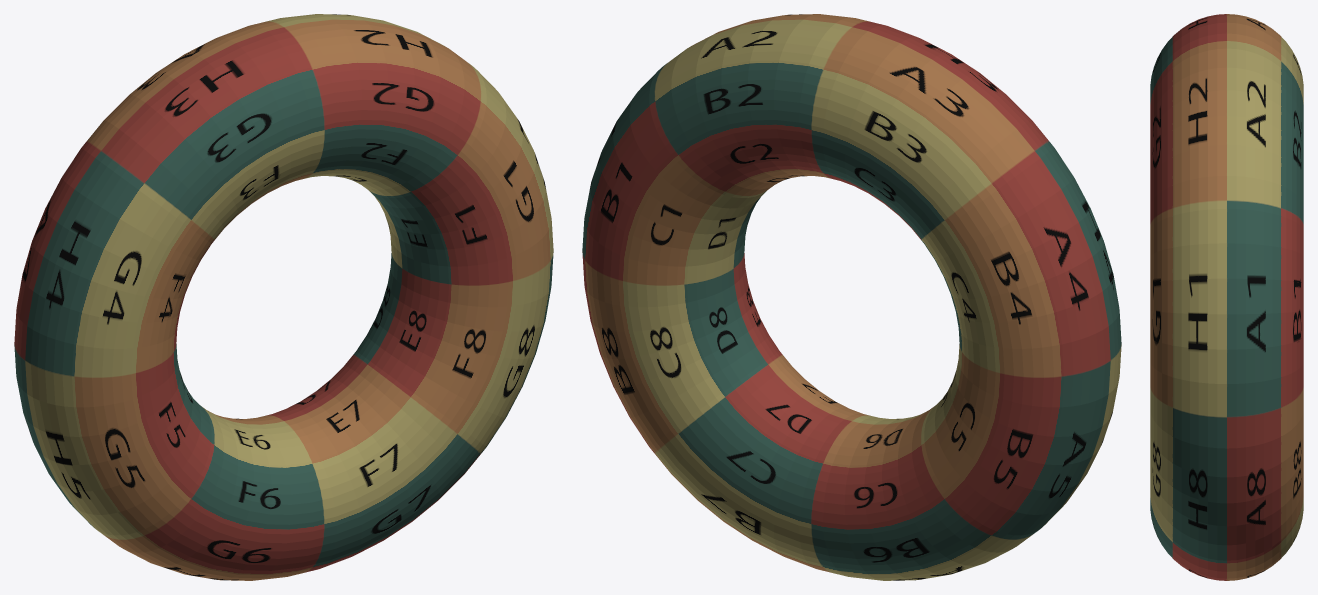
The model's file is texture_torus_R21_r26.glb.
The picture shows the model from 3 angles, left to right: view 1: azimuth 30°, elevation 25°; view 2: azimuth 150°, elevation 25°; view 3: azimuth 270°, elevation 25°; orthographic projection. The views are drawn at different scales.
Visible parts, largest first — view 1: world; view 2: world; view 3: world.
Boxes of the visible parts, bbox=[...] form: world: bbox=[14, 14, 553, 580]; world: bbox=[582, 14, 1121, 580]; world: bbox=[1150, 14, 1303, 580].
Size of the model in its own units: 32.93 by 32.87 by 8.92.
Materials: 1 (1 with a texture image).
